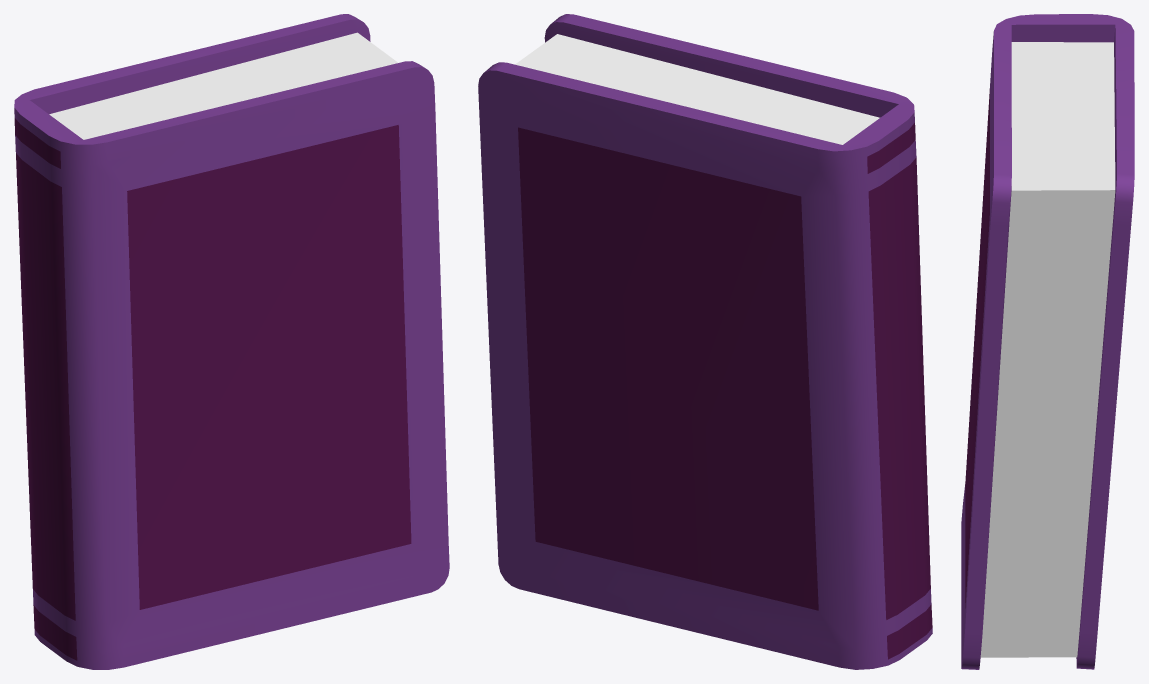
Rendered from book_2.fbx.
3 views of the same model, side by side, from view 1: azimuth 30°, elevation 25°; view 2: azimuth 150°, elevation 25°; view 3: azimuth 270°, elevation 25° (orthographic). The views are drawn at different scales.
Visible parts, largest first — view 1: book_2; view 2: book_2; view 3: book_2.
Boxes of the visible parts, x1,y1,x2,y2 form: book_2: [14, 14, 449, 669]; book_2: [478, 14, 932, 669]; book_2: [961, 14, 1134, 669].
Bounding box in the file's own units: 0.2761 × 0.3743 × 0.1189.
